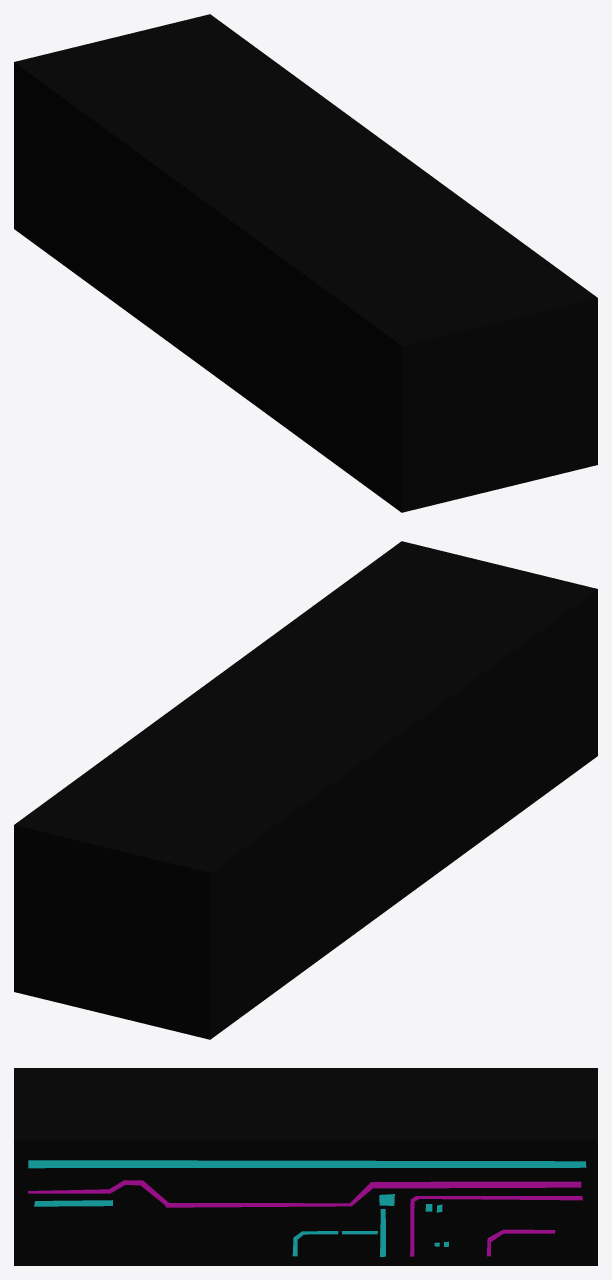
Rendered from neonyol5.fbx.
3 renders of one model, top to bottom at view 1: azimuth 30°, elevation 25°; view 2: azimuth 150°, elevation 25°; view 3: azimuth 270°, elevation 25°, orthographic. The views are drawn at different scales.
Parts seen in each view (by area): view 1: Cube.054; view 2: Cube.054; view 3: Cube.054.
Boxes of the visible parts, x1=… form: Cube.054: x1=14, y1=14, x2=597, y2=512; Cube.054: x1=14, y1=541, x2=597, y2=1039; Cube.054: x1=14, y1=1068, x2=597, y2=1265.
Size of the model in its own units: 76.44 by 62.16 by 262.
